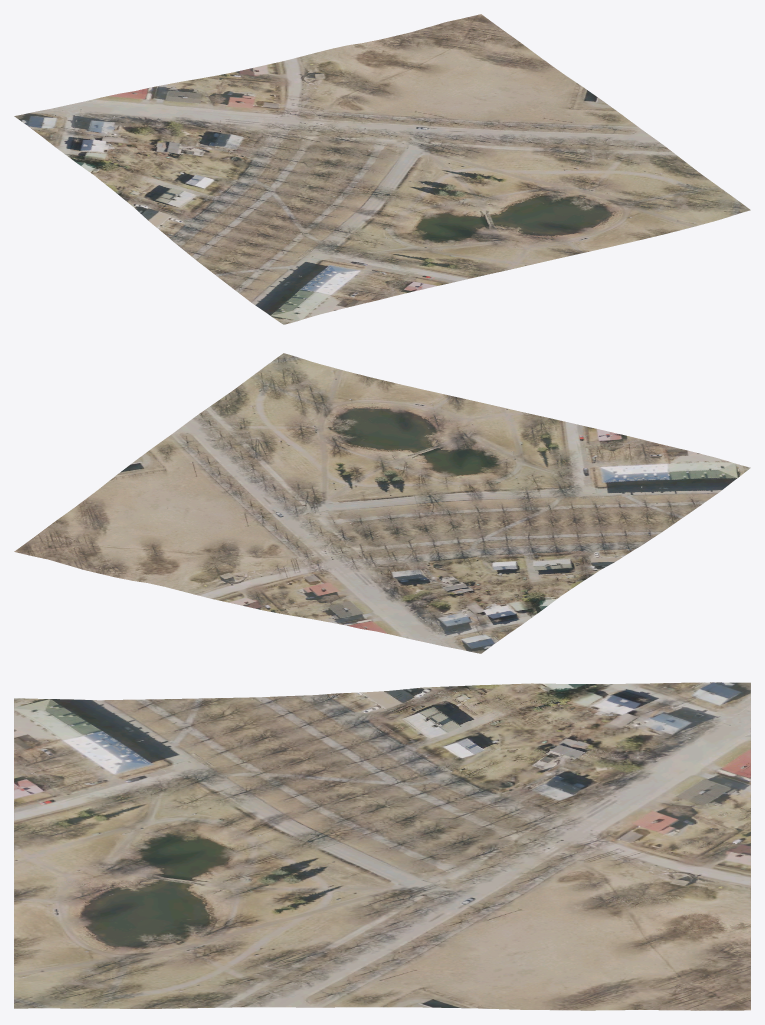
File: CM_Terrain_24488820_6819589.fbx
3 renders of one model, top to bottom at view 1: azimuth 30°, elevation 25°; view 2: azimuth 150°, elevation 25°; view 3: azimuth 270°, elevation 25°, orthographic. The views are drawn at different scales.
Visible parts, largest first — view 1: CM_Terrain_24488820_6819589_LOD0; view 2: CM_Terrain_24488820_6819589_LOD0; view 3: CM_Terrain_24488820_6819589_LOD0.
Boxes of the visible parts, left/top/right/bottom form: CM_Terrain_24488820_6819589_LOD0: left=14, top=14, right=750, bottom=324; CM_Terrain_24488820_6819589_LOD0: left=14, top=353, right=750, bottom=653; CM_Terrain_24488820_6819589_LOD0: left=14, top=682, right=750, bottom=1010.
Size of what is drawn, in the model's own units: 205 by 6.66 by 205.
